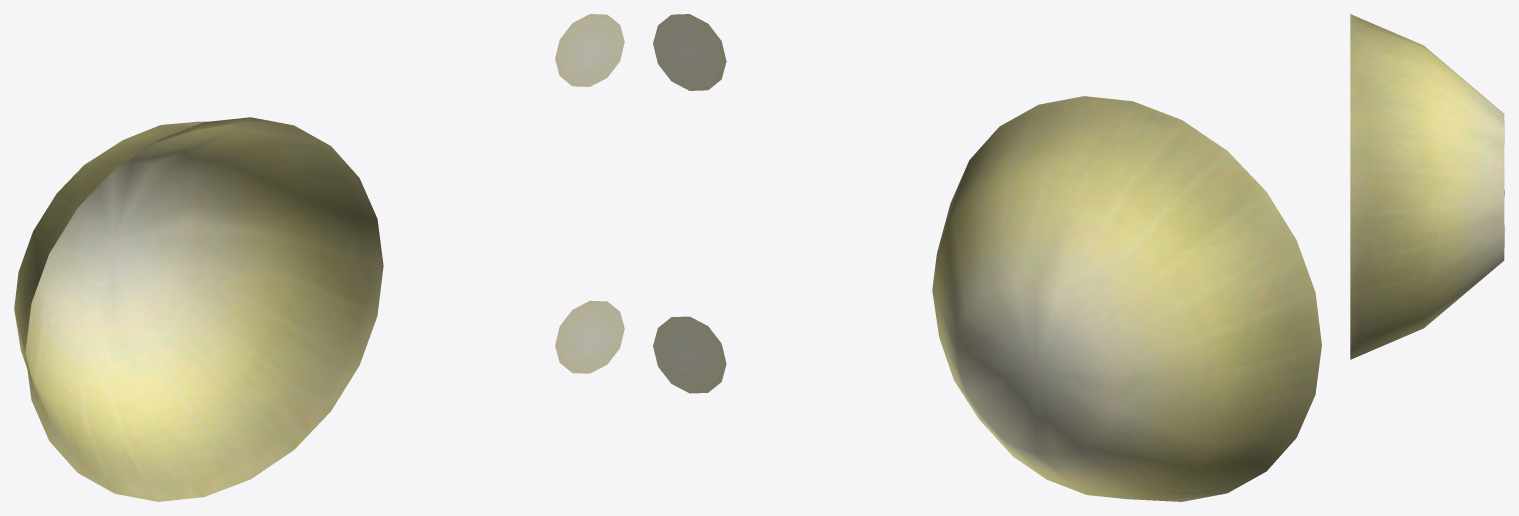
The model's file is star_destroyer_space_engine3_on_l0.fbx.
The picture shows the model from 3 angles, left to right: view 1: azimuth 30°, elevation 25°; view 2: azimuth 150°, elevation 25°; view 3: azimuth 270°, elevation 25°; orthographic projection. The views are drawn at different scales.
Parts seen in each view (by area): view 1: mesh_node; view 2: mesh_node; view 3: mesh_node.
Boxes of the visible parts, left/top/right/bottom form: mesh_node: left=14, top=14, right=624, bottom=501; mesh_node: left=653, top=14, right=1321, bottom=501; mesh_node: left=1350, top=14, right=1504, bottom=359.
Size of the model in its own units: 264 by 153 by 68.08.
